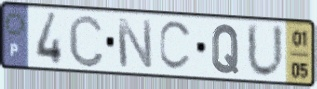4: (33, 10, 65, 67)
C: (66, 12, 106, 70), (157, 19, 194, 74)
N: (114, 16, 155, 71)
Q: (210, 22, 241, 76)
U: (244, 20, 286, 82)
